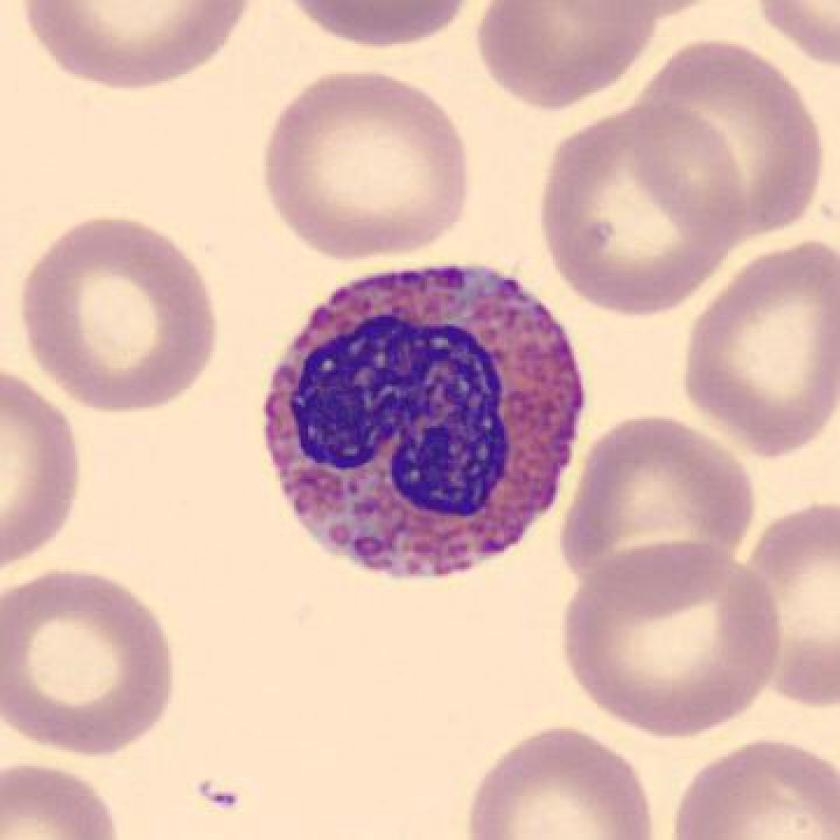eosinophil: (246, 253, 605, 591)
